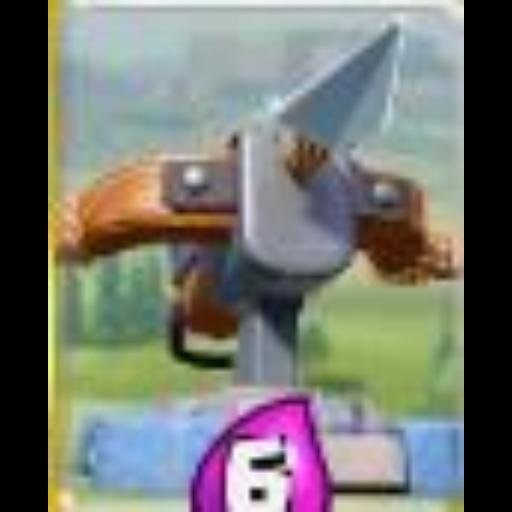x-bow: (49, 0, 465, 512)
